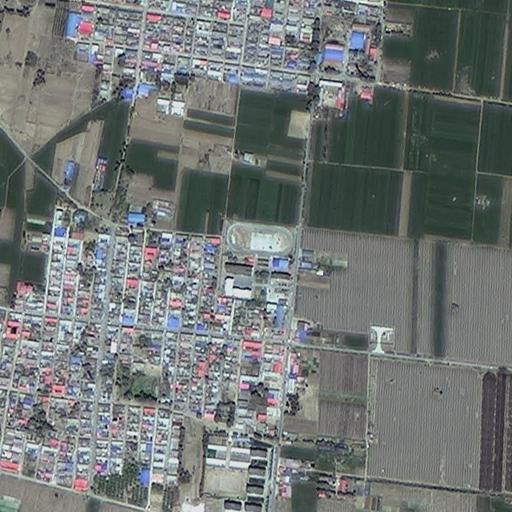school: (218, 219, 298, 302)
